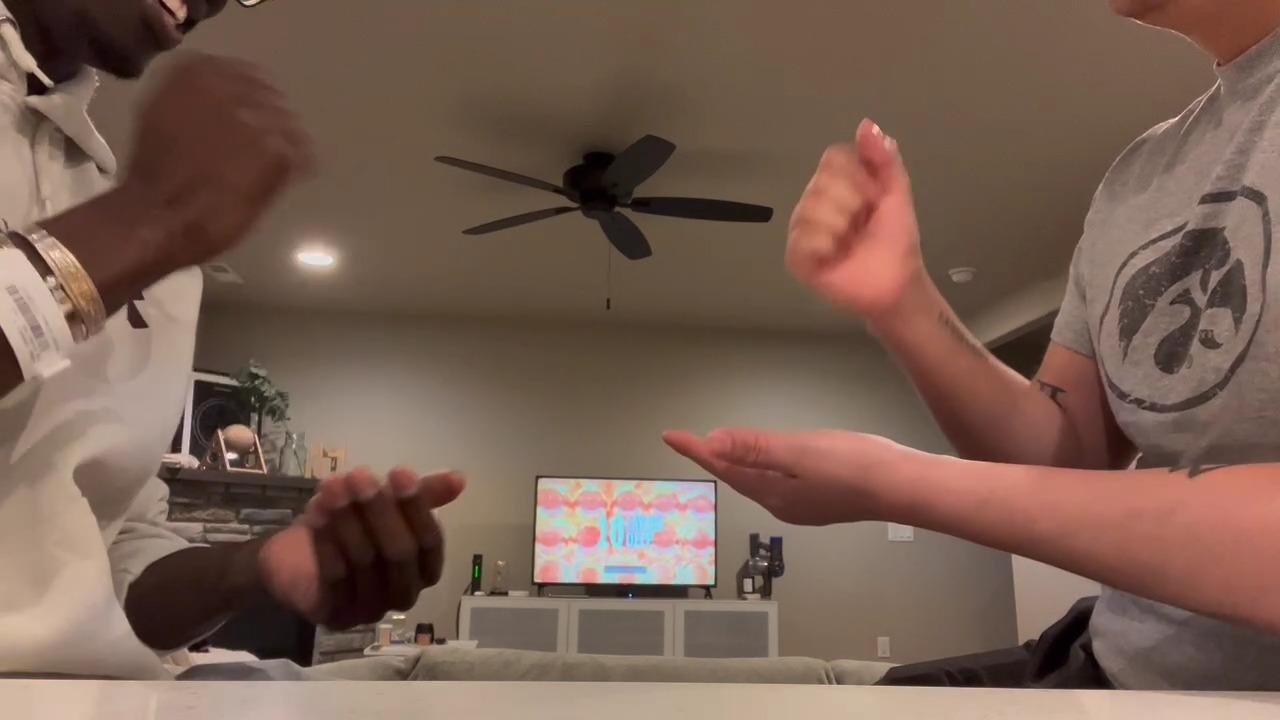Rock: (127, 47, 320, 263), (783, 117, 927, 322)
